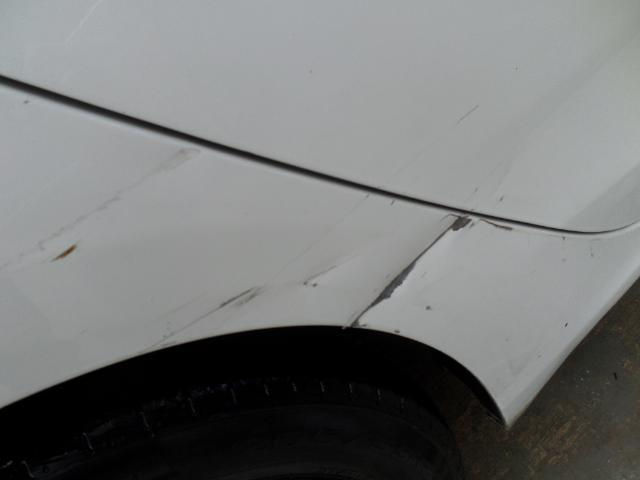scratch: (346, 213, 519, 327), (137, 284, 256, 354), (302, 254, 359, 289), (45, 237, 88, 271), (451, 102, 483, 127), (237, 286, 263, 308), (420, 271, 428, 279), (563, 321, 569, 328), (394, 330, 400, 333), (426, 306, 430, 310)
